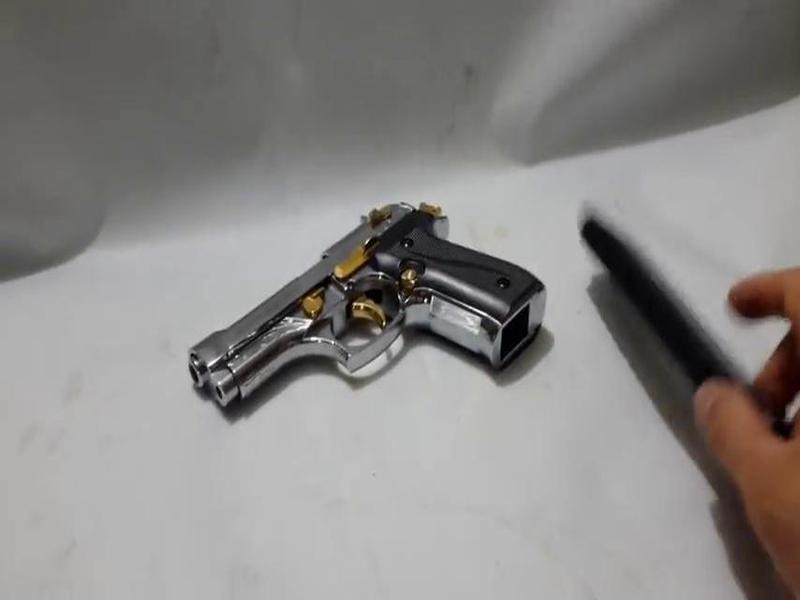Pistola: (169, 155, 556, 422)
